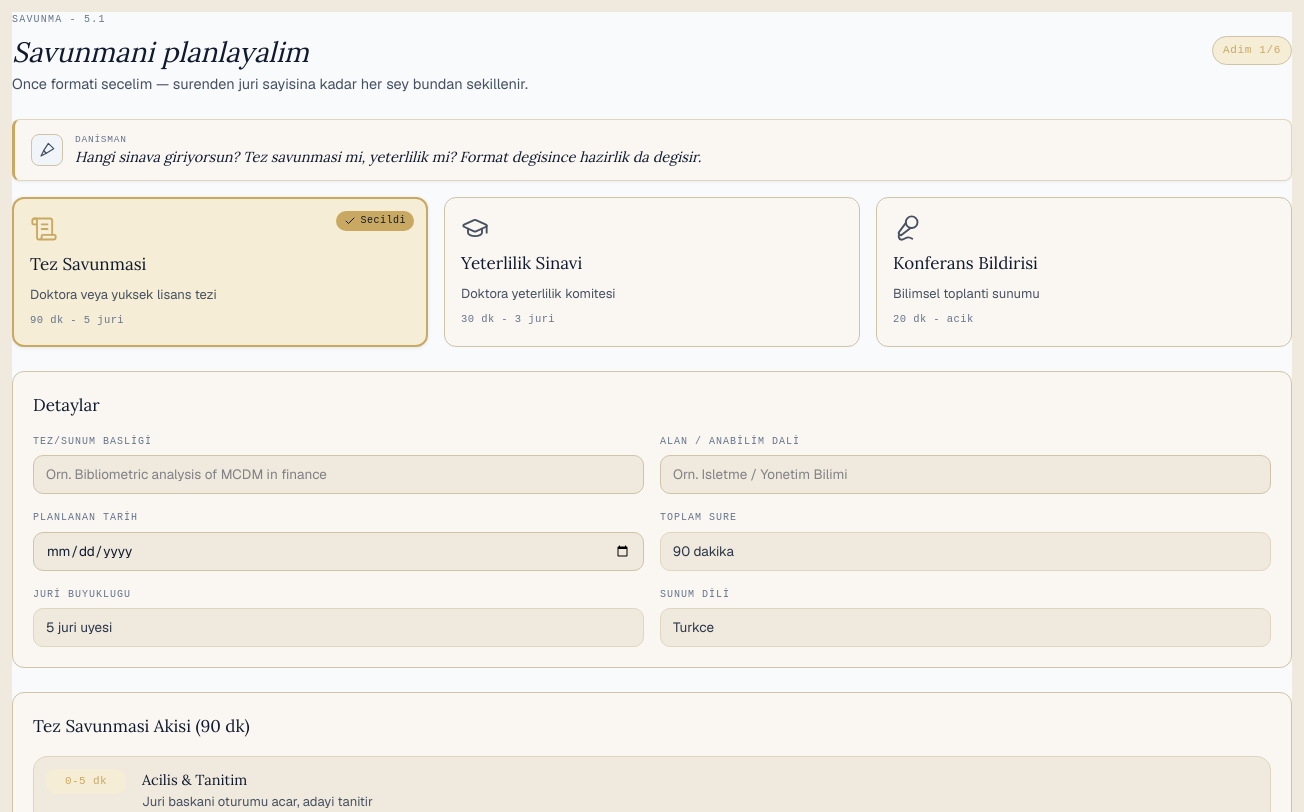
Test: DefenseFormatPage — static UI › conference format shows 4 timeline rows + open audience
Click the button "Konferans Bildirisi Bilimsel toplanti sunumu 20 dk - acik". click: (965, 263)
box: left=876, top=197, right=1292, bottom=347
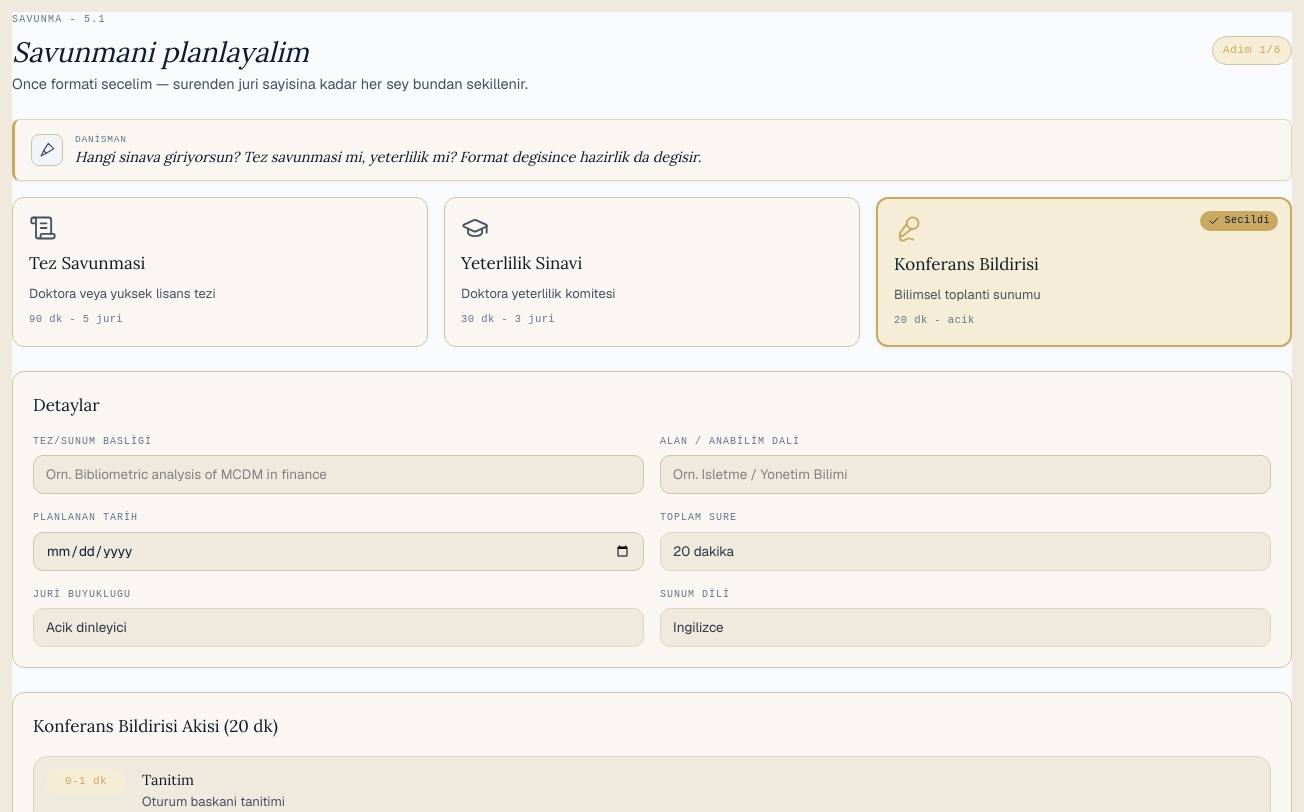
Result: the heading "Konferans Bildirisi Akisi (20 dk)" is shown at left=33, top=715, right=278, bottom=737
Result: the text "Acik dinleyici" is shown at left=33, top=608, right=644, bottom=647
Result: the text "0-1 dk" is shown 4 times
